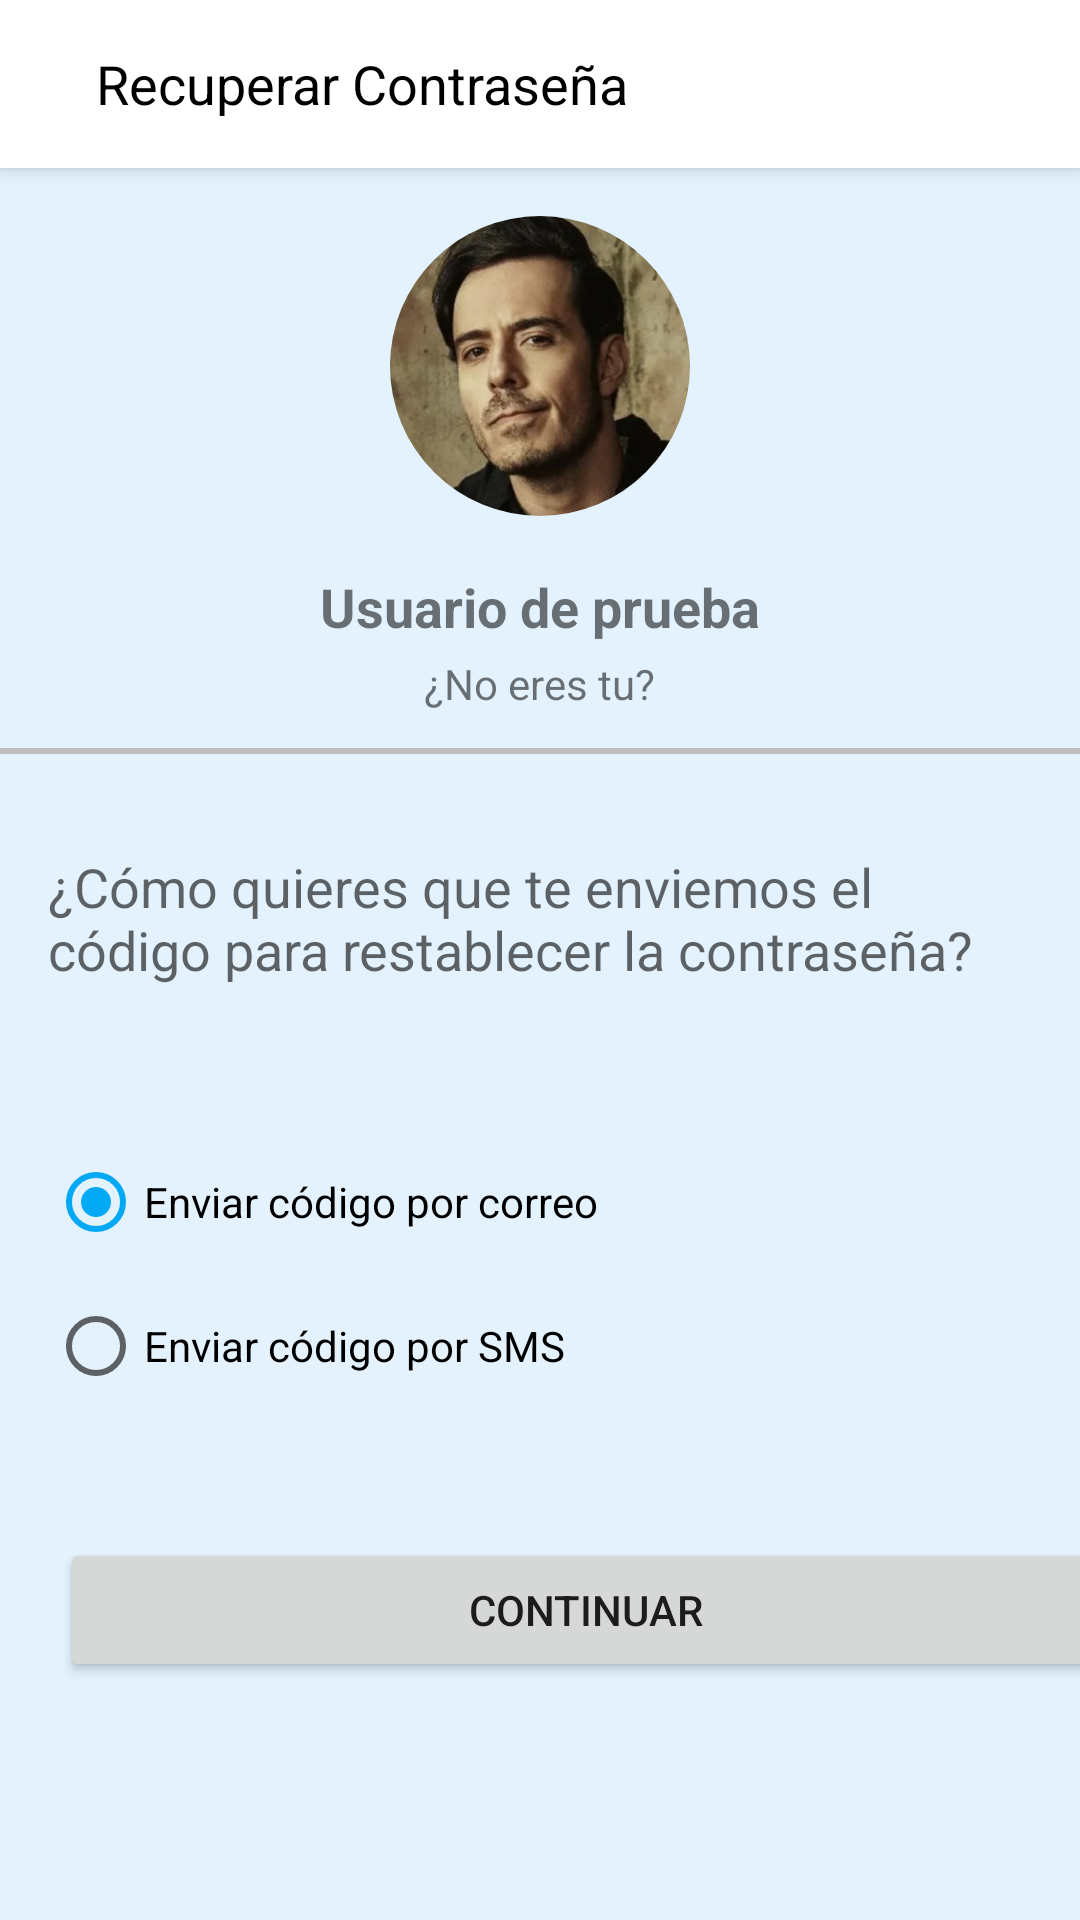

Icons on this 1080w x 1920h Android screen, each with the point to tap as (x=x, y=y):
profile: (x=540, y=366)
